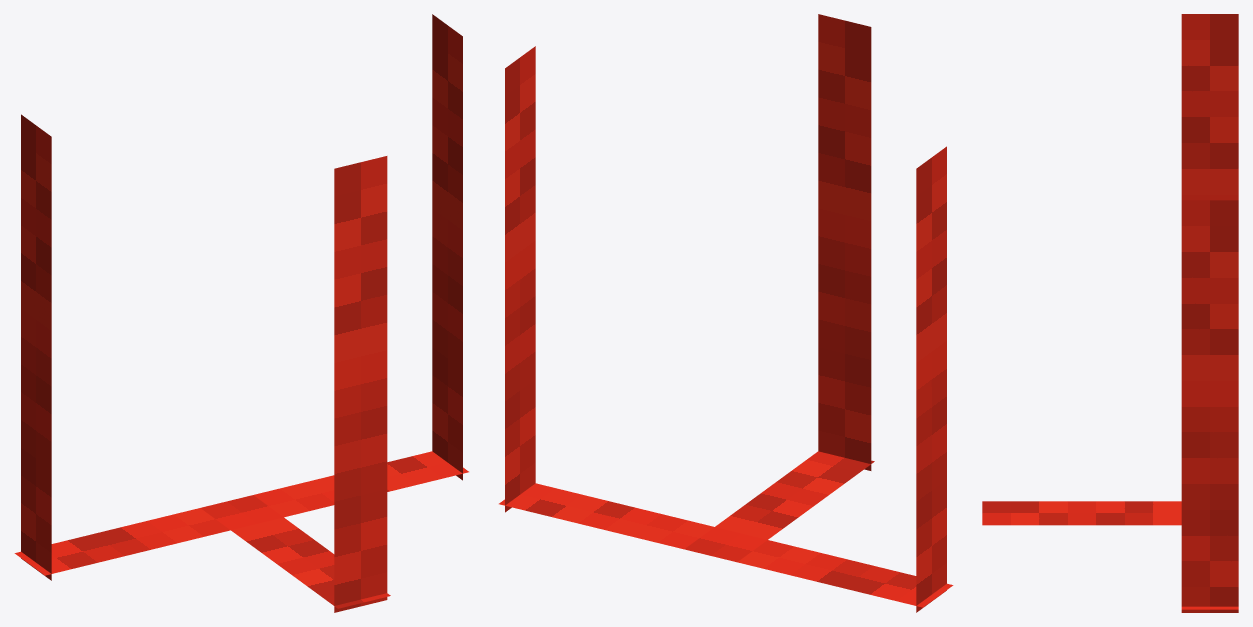
Rendered from dust_on_2220.gltf.
The picture shows the model from 3 angles, left to right: view 1: azimuth 30°, elevation 25°; view 2: azimuth 150°, elevation 25°; view 3: azimuth 270°, elevation 25°; orthographic projection. The views are drawn at different scales.
Parts seen in each view (by area): view 1: dust_on_2220; view 2: dust_on_2220; view 3: dust_on_2220.
Boxes of the visible parts, x1,y1,x2,y2 form: dust_on_2220: (14,14,468,612); dust_on_2220: (499,14,953,612); dust_on_2220: (982,14,1238,612).
Size of the model in its own units: 1 by 1 by 0.5625.
Materials: 1 (1 with a texture image).
